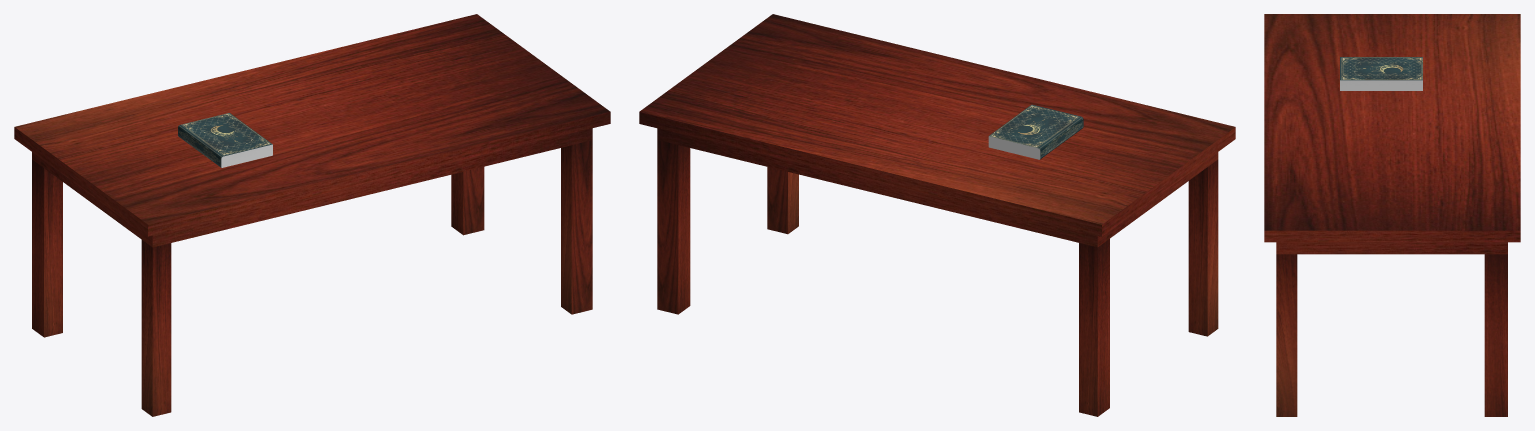
The model's file is book_1.fbx.
3 views of the same model, side by side, from view 1: azimuth 30°, elevation 25°; view 2: azimuth 150°, elevation 25°; view 3: azimuth 270°, elevation 25° (orthographic). The views are drawn at different scales.
Visible parts, largest first — view 1: Table, Book; view 2: Table, Book; view 3: Table, Book.
Boxes of the visible parts, bbox=[...] form: Table: bbox=[14, 14, 610, 416]; Book: bbox=[178, 113, 272, 167]; Table: bbox=[639, 14, 1235, 416]; Book: bbox=[988, 104, 1083, 159]; Table: bbox=[1264, 14, 1520, 416]; Book: bbox=[1340, 57, 1422, 90].
Size of the model in its own units: 400 by 174 by 200.
2 materials, 2 textured.
